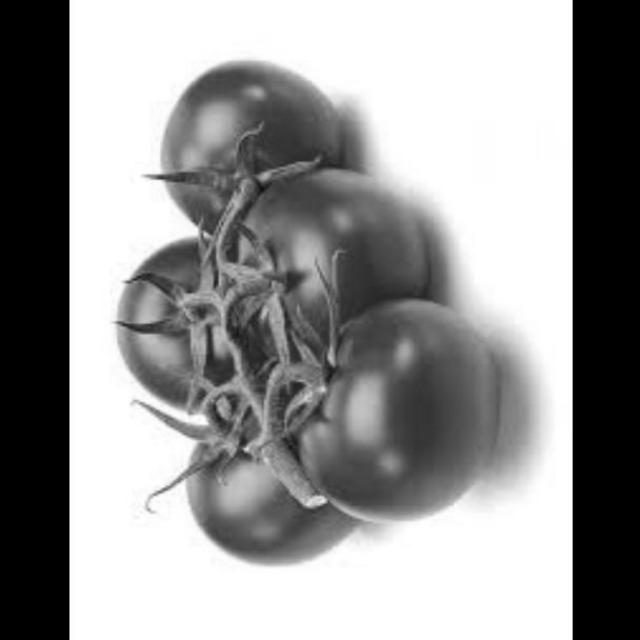ca chua: (278, 301, 505, 541), (222, 174, 435, 388), (155, 52, 346, 243), (180, 393, 362, 567), (113, 239, 262, 420)
